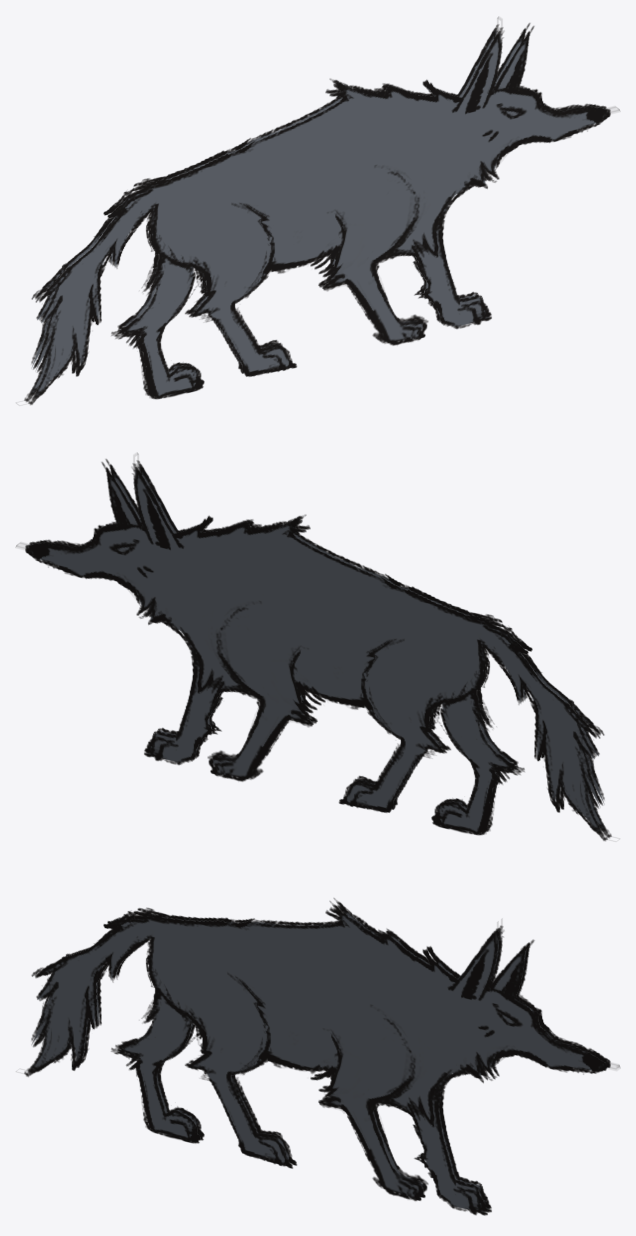
Rendered from SM_Wolf.glb.
The picture shows the model from 3 angles, top to bottom: view 1: azimuth 30°, elevation 25°; view 2: azimuth 150°, elevation 25°; view 3: azimuth 330°, elevation 25°; orthographic projection.
Parts seen in each view (by area): view 1: awoo; view 2: awoo; view 3: awoo.
Part boxes in pixels (x1=…): awoo: x1=16, y1=17, x2=619, y2=405; awoo: x1=16, y1=453, x2=619, y2=841; awoo: x1=16, y1=898, x2=619, y2=1215.
Bounding box in the file's own units: 2.15 × 1.03 × 0.025.
1 material, 1 textured.
